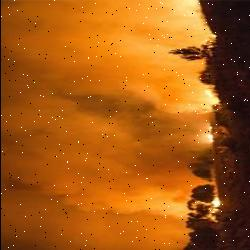fire: (158, 0, 228, 230)
